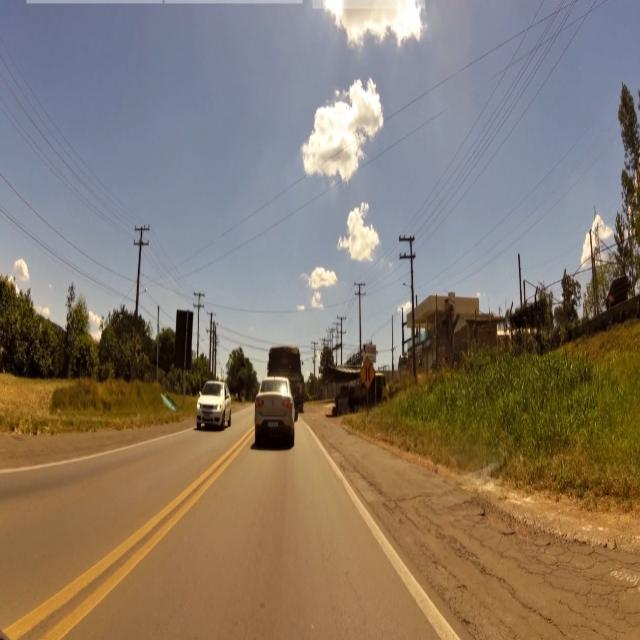A-22: (360, 357, 375, 387)
